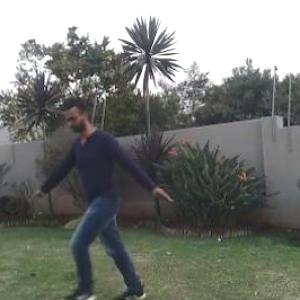land: (30, 87, 170, 299)
